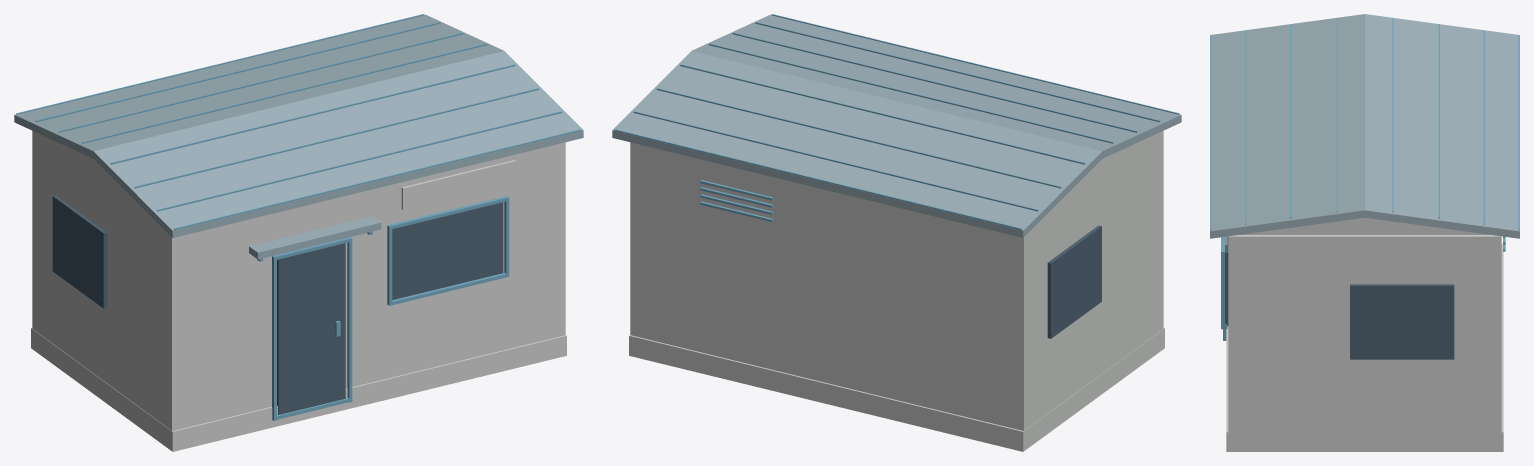
Rendered from control-building.glb.
3 views of the same model, side by side, from view 1: azimuth 30°, elevation 25°; view 2: azimuth 150°, elevation 25°; view 3: azimuth 270°, elevation 25° (orthographic). The views are drawn at different scales.
Visible parts, largest first — view 1: CB_BODY, CB_ROOF, CB_GLAZING, CB_ACCENT; view 2: CB_BODY, CB_ROOF, CB_ACCENT, CB_GLAZING; view 3: CB_ROOF, CB_BODY, CB_GLAZING, CB_ACCENT.
Boxes of the visible parts, x1,y1,x2,y2 form: CB_BODY: [31, 131, 566, 451]; CB_ROOF: [14, 14, 583, 259]; CB_GLAZING: [52, 195, 503, 414]; CB_ACCENT: [16, 14, 581, 420]; CB_BODY: [629, 131, 1164, 451]; CB_ROOF: [612, 14, 1181, 237]; CB_ACCENT: [614, 14, 1179, 229]; CB_GLAZING: [1047, 225, 1101, 338]; CB_ROOF: [1210, 14, 1519, 238]; CB_BODY: [1225, 218, 1503, 451]; CB_GLAZING: [1225, 236, 1454, 359]; CB_ACCENT: [1210, 18, 1519, 340].
Bounding box in the file's own units: 6 × 3.5 × 4.
